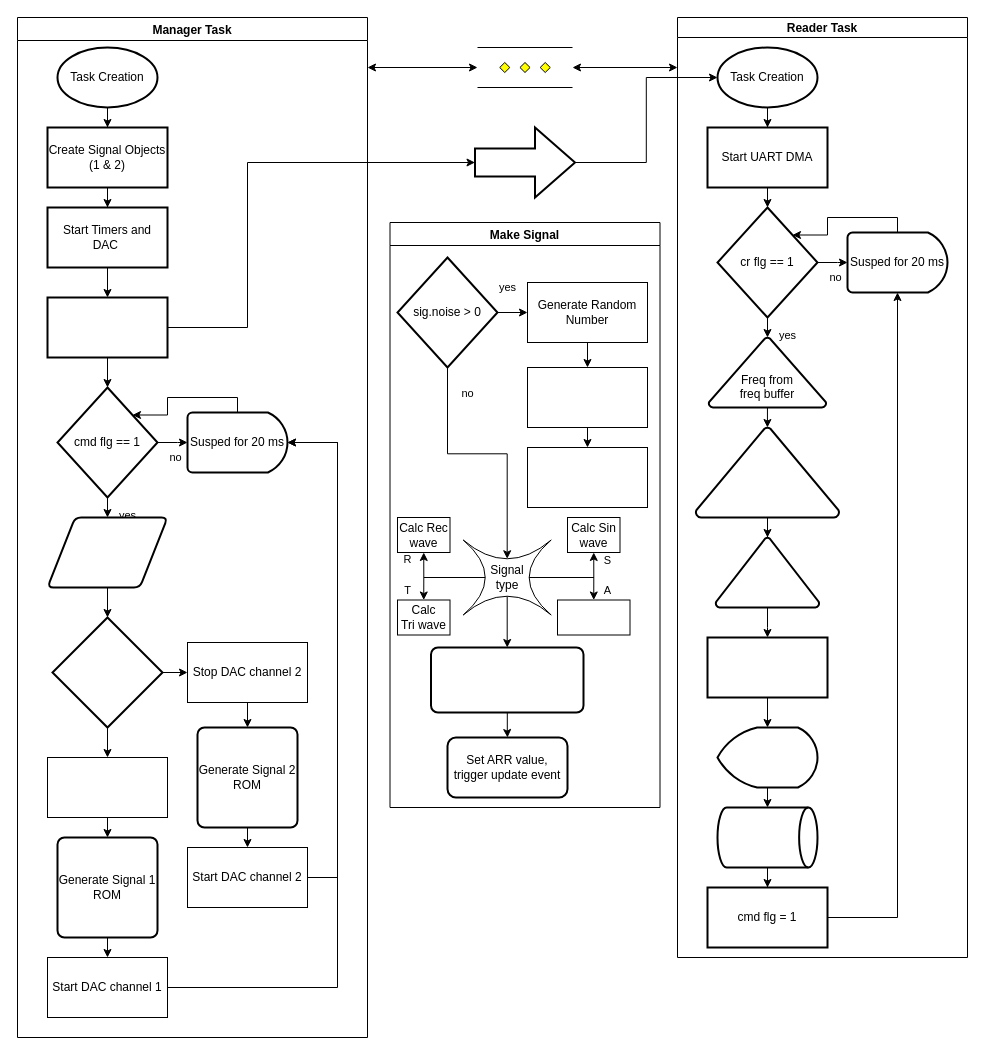
This 985x1055 diagram has some shape labels left out. Here are the shapes that lost their labels. From the top down, the centre of each, then its label:
At (107,327): "Create Reader Task".
At (587,397): "Mask to correct size".
At (587,477): "Add noise to signal values".
At (767,472): "min and max voltage from voltage buffer".
At (107,552): "Get signal request from Queue".
At (767,572): "Noise from noise buffer".
At (593,617): "sig ROM = ekg ROM".
At (107,672): "Signal 1 or 2?".
At (507,679): "ARR = CLK/(freq*ROMsz)".
At (767,667): "Clear all buffers".
At (767,757): "New Signal Metrics to terminal".
At (107,787): "Stop DAC channel 1".
At (767,837): "Put new signal data in queue".
